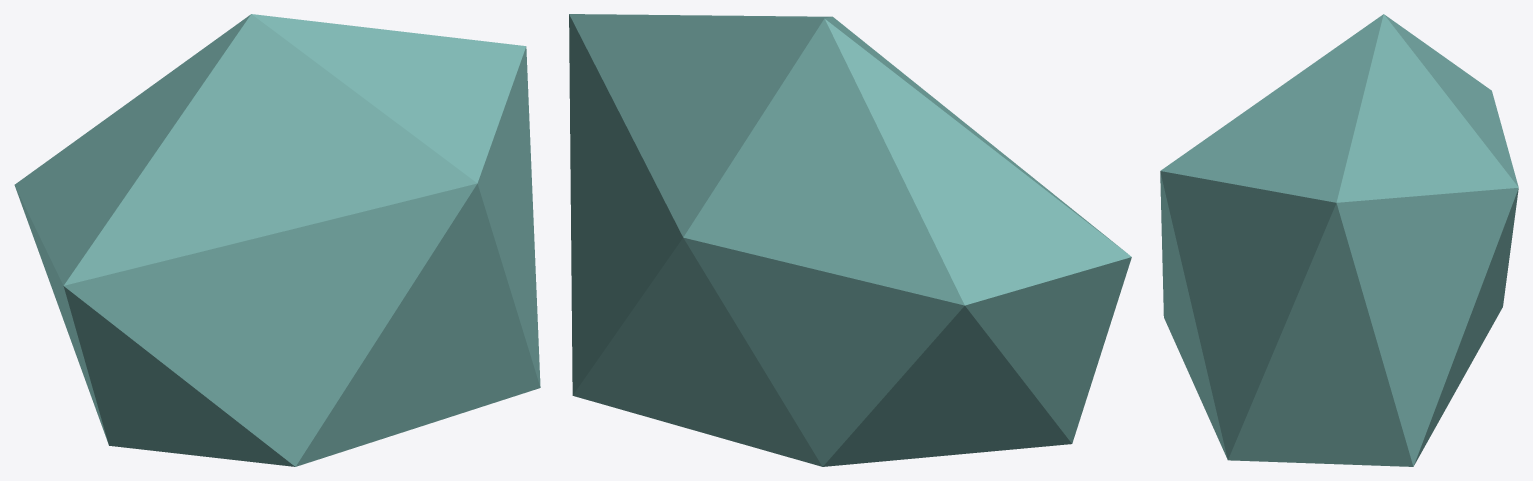
File: Rock 4.fbx
3 renders of one model, left to right at view 1: azimuth 30°, elevation 25°; view 2: azimuth 150°, elevation 25°; view 3: azimuth 270°, elevation 25°, orthographic. The views are drawn at different scales.
Visible parts, largest first — view 1: Rock.003; view 2: Rock.003; view 3: Rock.003.
Part boxes in pixels (<box>): Rock.003: <box>14,14,540,466</box>; Rock.003: <box>569,14,1131,466</box>; Rock.003: <box>1160,14,1518,466</box>.
Size of the model in its own units: 263 by 199 by 178.
